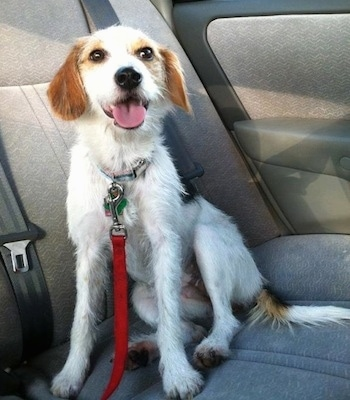dog: (42, 24, 350, 400)
